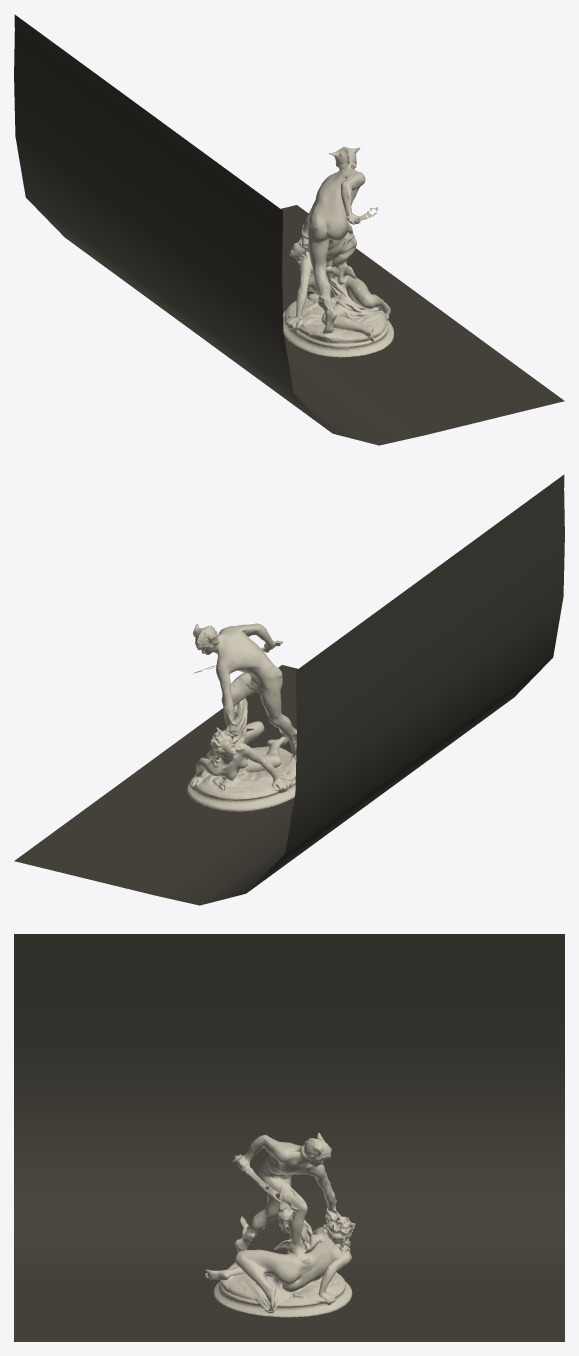
3 renders of one model, top to bottom at view 1: azimuth 30°, elevation 25°; view 2: azimuth 150°, elevation 25°; view 3: azimuth 270°, elevation 25°, orthographic. The views are drawn at different scales.
Parts seen in each view (by area): view 1: pPlane1, persew_lowpoly:Mesh; view 2: pPlane1, persew_lowpoly:Mesh; view 3: pPlane1, persew_lowpoly:Mesh.
Boxes of the visible parts, <box> form: pPlane1: <box>14,14,564,445</box>; persew_lowpoly:Mesh: <box>283,146,394,357</box>; pPlane1: <box>14,474,564,905</box>; persew_lowpoly:Mesh: <box>187,623,296,811</box>; pPlane1: <box>14,934,564,1341</box>; persew_lowpoly:Mesh: <box>205,1132,355,1317</box>.
Bounding box in the file's own units: 47.39 × 41.51 × 77.79.
